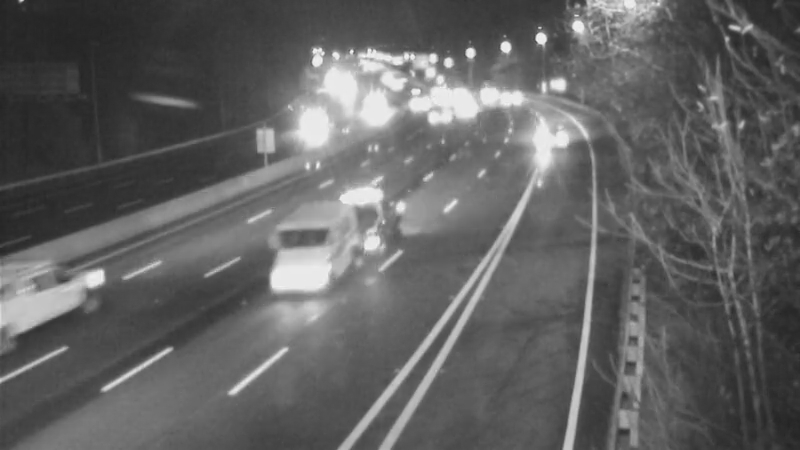vehicle: (294, 186, 374, 266), (1, 259, 81, 339), (390, 63, 440, 113), (413, 65, 463, 115), (456, 64, 506, 114), (482, 73, 532, 123), (395, 77, 445, 127), (442, 86, 492, 136), (411, 89, 461, 139), (524, 108, 574, 158), (277, 99, 327, 149)
